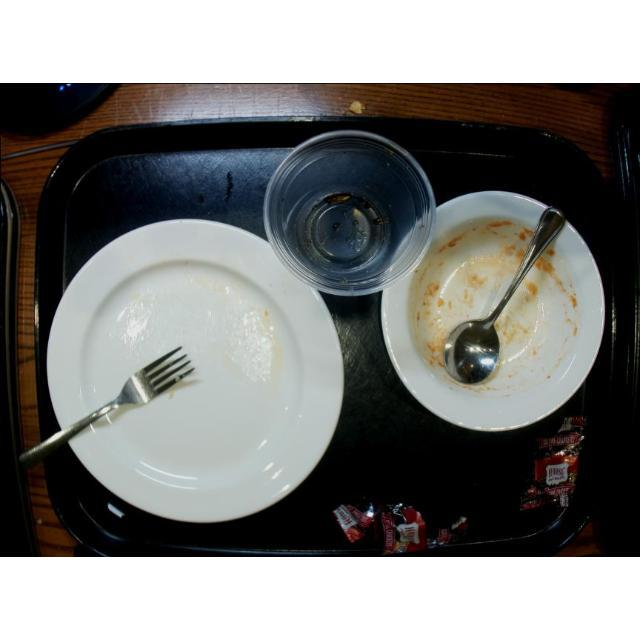plate: (43, 217, 345, 525), (372, 186, 610, 434), (428, 186, 574, 388), (16, 342, 202, 478)
